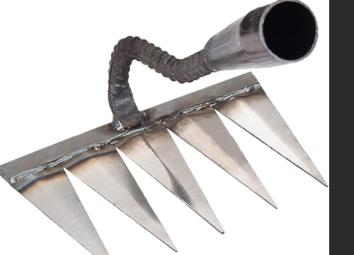RATEAU: (7, 8, 354, 255)
